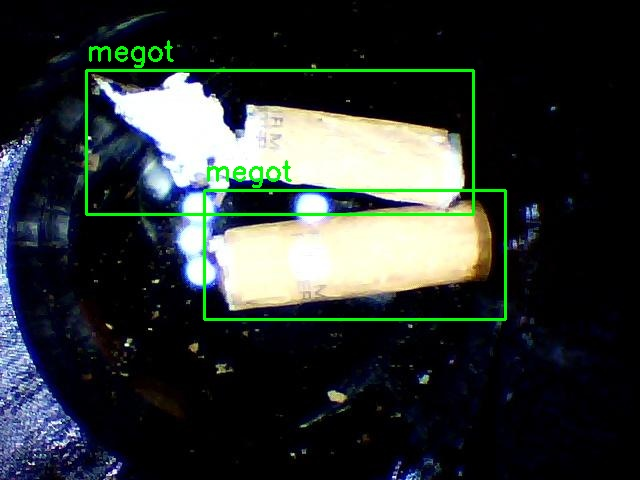megot: (86, 70, 473, 214), (204, 190, 505, 319)
